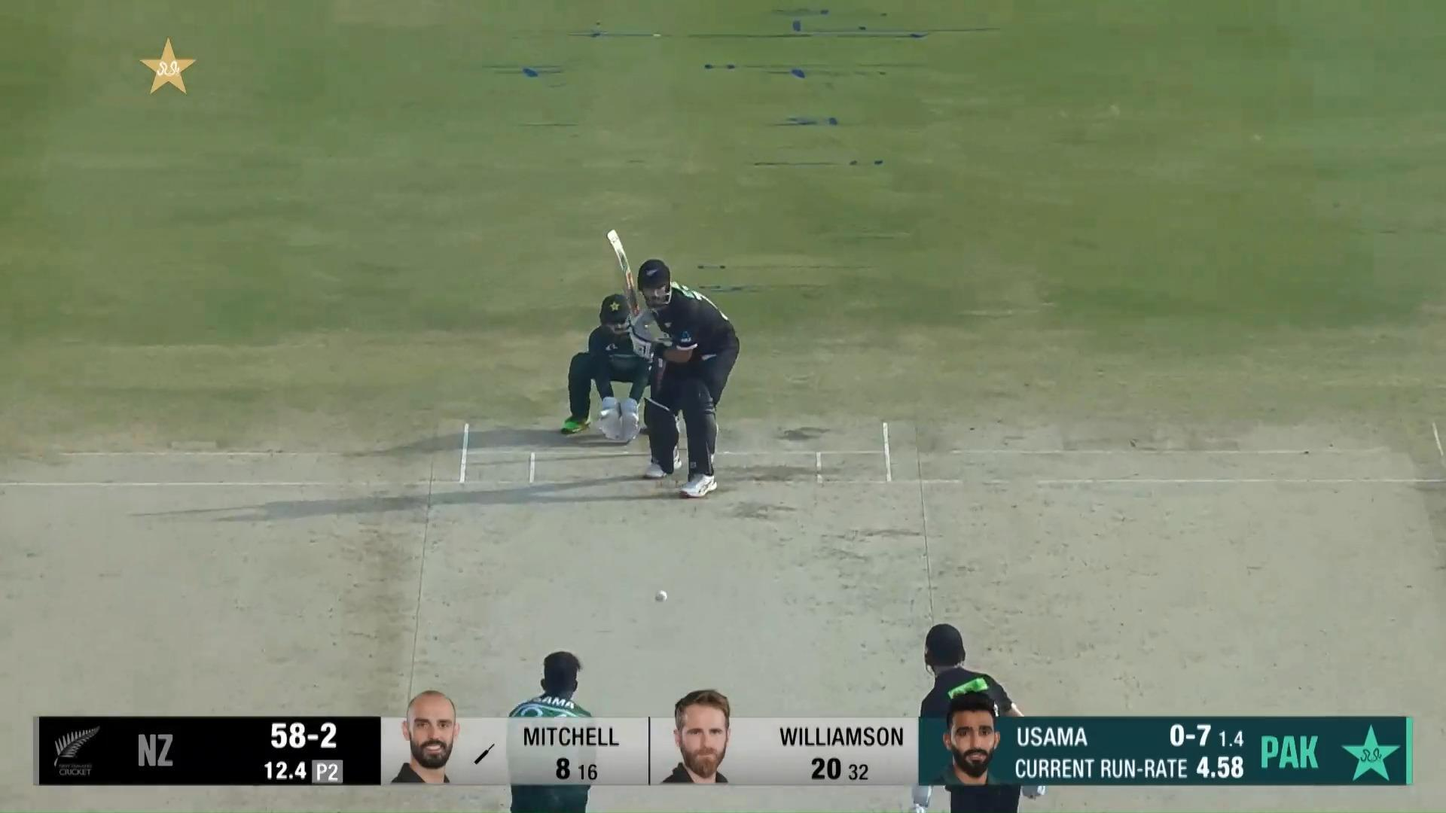BM 1: (604, 228, 742, 499)
BO: (506, 650, 597, 813)
